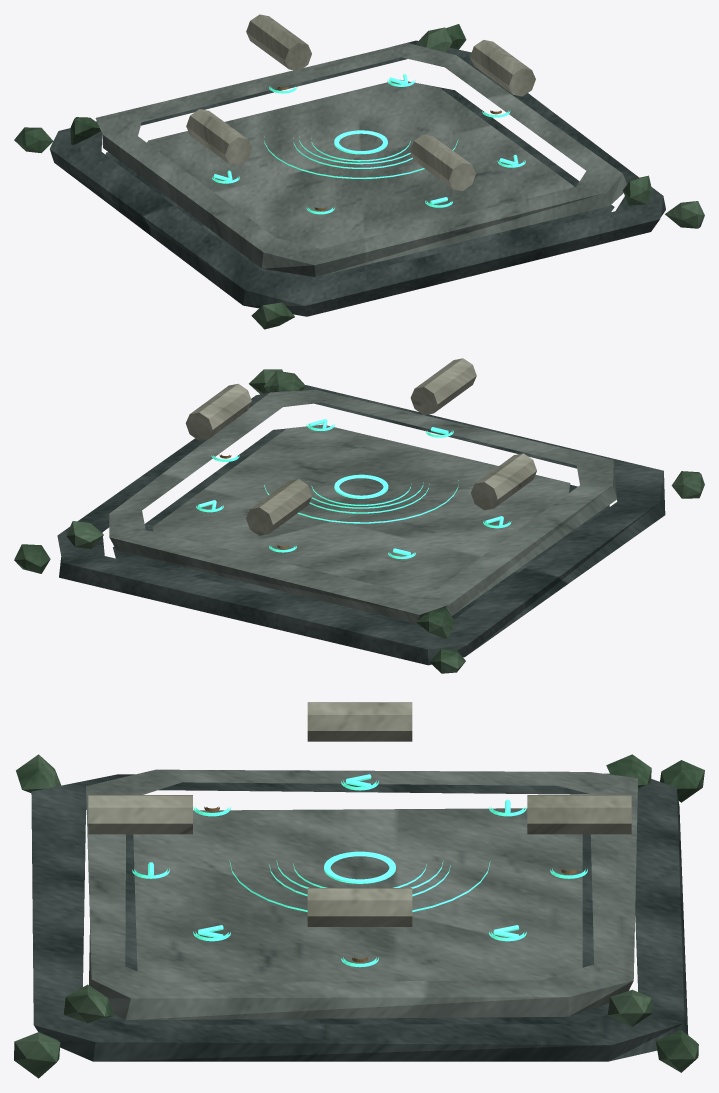
Rendered from 0562_rune_dais_12.glb.
3 renders of one model, top to bottom at view 1: azimuth 30°, elevation 25°; view 2: azimuth 150°, elevation 25°; view 3: azimuth 270°, elevation 25°, orthographic. The views are drawn at different scales.
Parts seen in each view (by area): view 1: stone, stone_dark, stone_light, moss, glow; view 2: stone, stone_dark, stone_light, moss, glow; view 3: stone, stone_dark, stone_light, moss, glow.
Boxes of the visible parts, x1,y1,x2,y2 form: stone: (95, 43, 627, 277); stone_dark: (50, 40, 665, 316); stone_light: (186, 14, 535, 190); moss: (14, 24, 704, 329); glow: (212, 74, 525, 214); stone: (109, 389, 616, 623); stone_dark: (57, 385, 665, 665); stone_light: (185, 358, 536, 535); moss: (14, 369, 704, 673); glow: (196, 419, 511, 558); stone: (86, 769, 637, 1020); stone_dark: (31, 773, 688, 1061); stone_light: (88, 702, 631, 926); moss: (14, 754, 704, 1078); glow: (132, 774, 587, 967).
Bounding box in the file's own units: 3.32 × 0.7355 × 3.31.
Materials: 6 (6 with a texture image).
